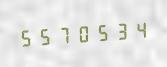five: (17, 24, 35, 50), (36, 23, 54, 48), (93, 19, 111, 44)
four: (131, 16, 149, 42)
seven: (55, 21, 73, 47)
three: (112, 17, 130, 43)
zero: (74, 20, 92, 46)
